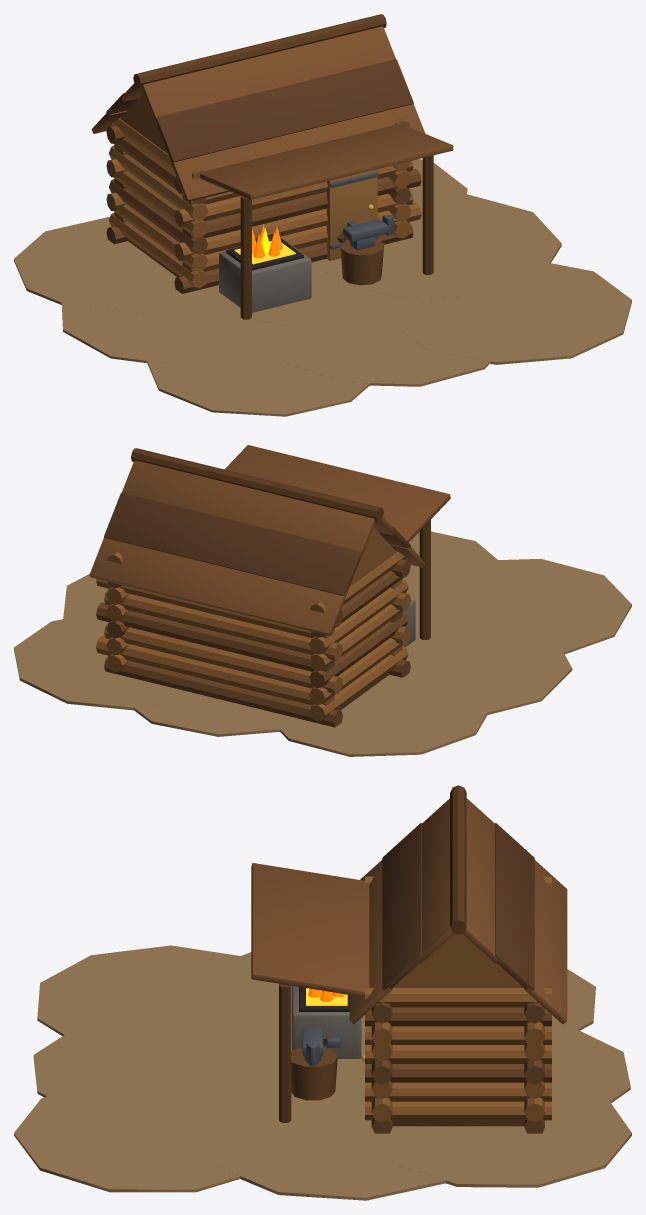
File: kuznia_poz02.glb
3 renders of one model, top to bottom at view 1: azimuth 30°, elevation 25°; view 2: azimuth 150°, elevation 25°; view 3: azimuth 270°, elevation 25°, orthographic. The views are drawn at different scales.
Visible parts, largest first — view 1: kuznia_poz02; view 2: kuznia_poz02; view 3: kuznia_poz02.
Boxes of the visible parts, bbox=[...] form: kuznia_poz02: bbox=[14, 14, 631, 416]; kuznia_poz02: bbox=[14, 445, 631, 756]; kuznia_poz02: bbox=[14, 785, 631, 1200].
Bounding box in the file's own units: 8.84 × 3.52 × 8.92.
